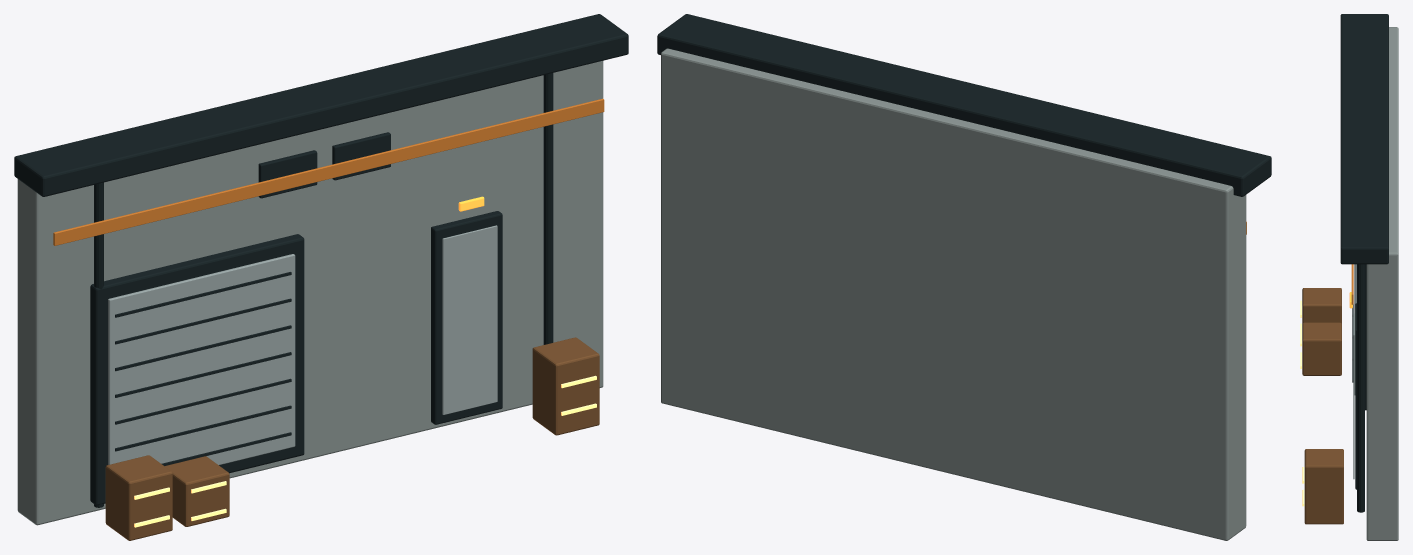
File: serviceG.glb
3 views of the same model, side by side, from view 1: azimuth 30°, elevation 25°; view 2: azimuth 150°, elevation 25°; view 3: azimuth 270°, elevation 25° (orthographic). The views are drawn at different scales.
Visible parts, largest first — view 1: ServiceKit_Crate, ServiceKit_CrateSlat; view 2: ServiceKit_Crate; view 3: ServiceKit_Crate, ServiceKit_CrateSlat.
Part boxes in pixels (x1,y1,x2,y2): ServiceKit_Crate: [14, 14, 628, 540]; ServiceKit_CrateSlat: [134, 375, 596, 527]; ServiceKit_Crate: [657, 14, 1271, 540]; ServiceKit_Crate: [1302, 14, 1398, 540]; ServiceKit_CrateSlat: [1300, 300, 1304, 506].
Bounding box in the file's own units: 12.4 × 7.33 × 2.2.
3 materials, 3 textured.
